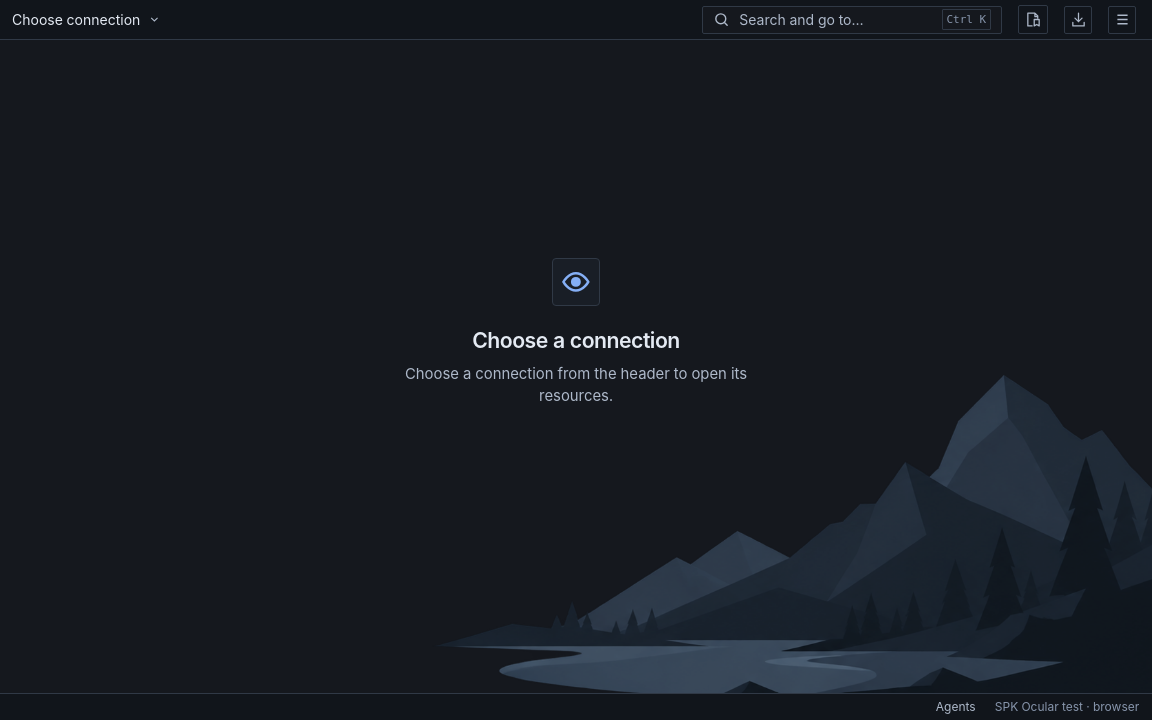
Test: App › offers explicit configuration import when there are no targets
The width and height of the screenshot is (1152, 720).
What coordinates should you click on to do the following:
click the button with aria-label "Connections"
I would click on:
 (87, 20)
Its box is [4,4,169,34].
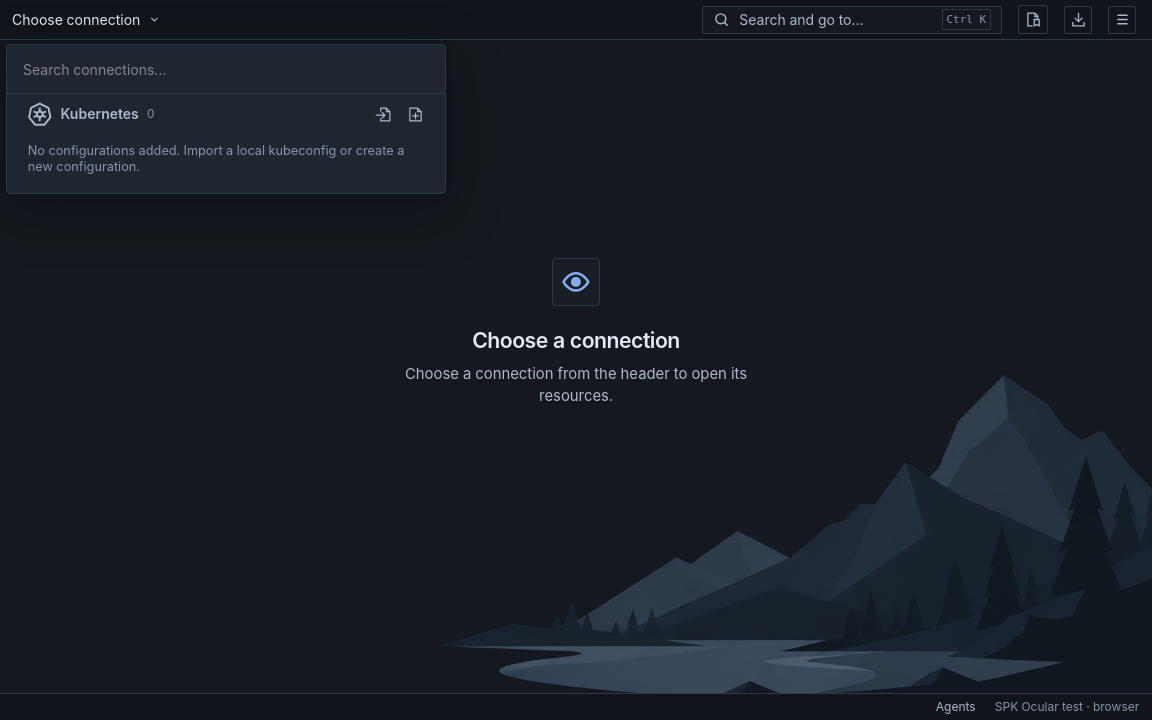
expect the text "No configurations added" is shown: met, box [28,142,404,174]
